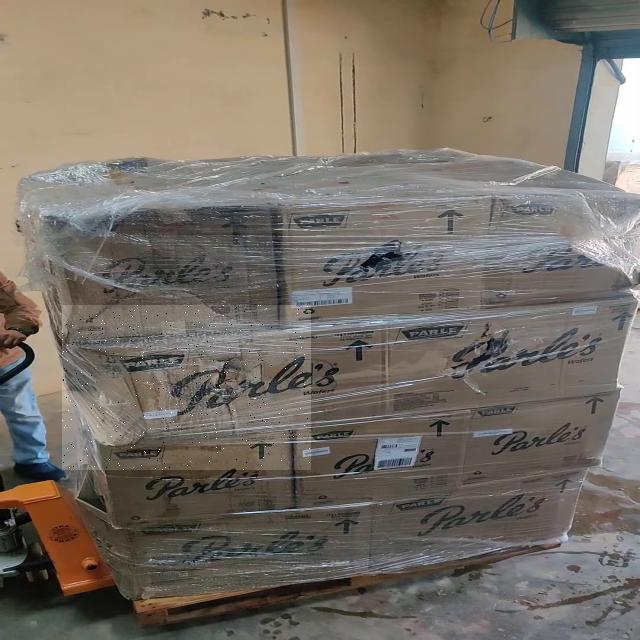leakage: (62, 305, 310, 470)
